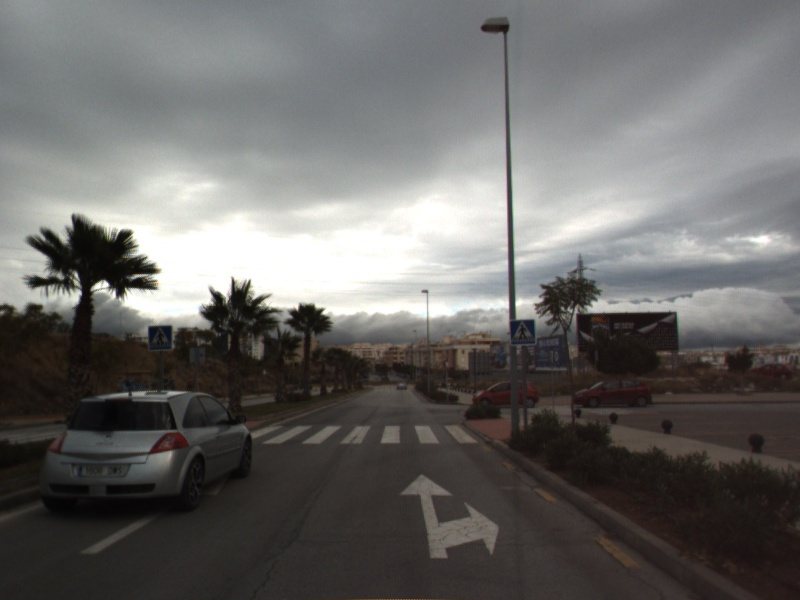STRAIGHT_RIGHT: (397, 472, 501, 561)
